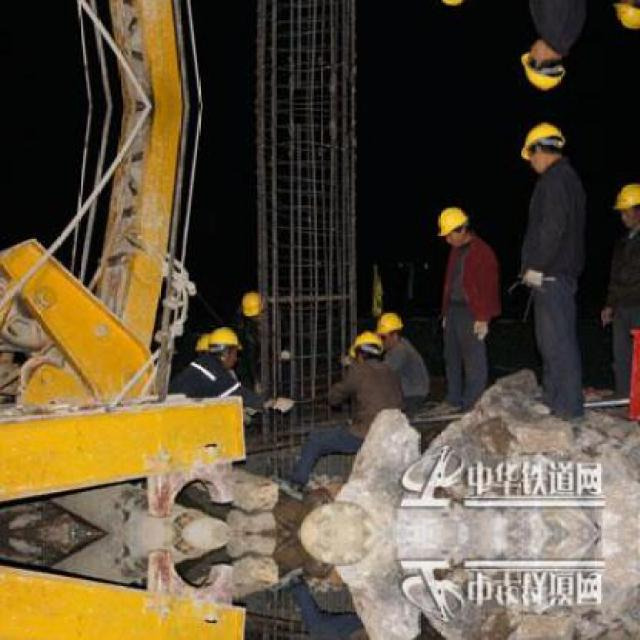helmet: (518, 117, 568, 176), (518, 37, 568, 96), (433, 204, 475, 248), (200, 326, 243, 366), (612, 178, 638, 234), (372, 310, 406, 350), (350, 332, 384, 367), (610, 0, 638, 35), (243, 291, 268, 324), (432, 0, 475, 9)
